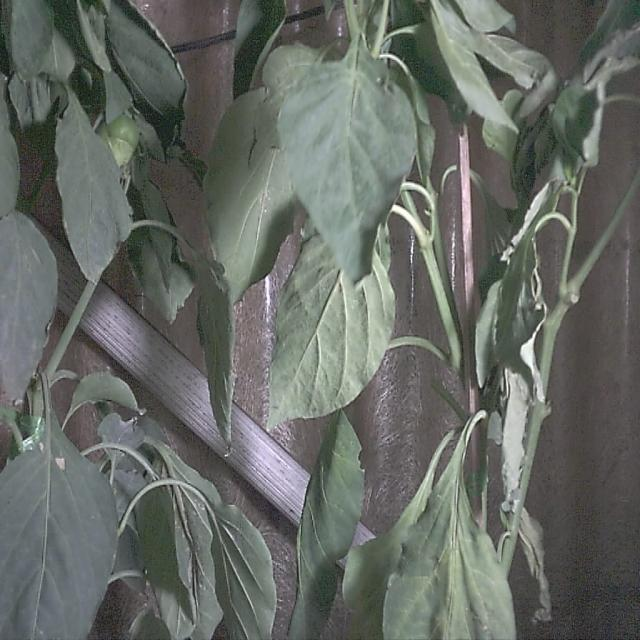Leaf: (278, 39, 415, 281), (384, 413, 515, 639), (0, 421, 117, 639), (269, 235, 394, 427), (289, 411, 363, 639), (55, 93, 131, 281), (0, 211, 57, 403)
